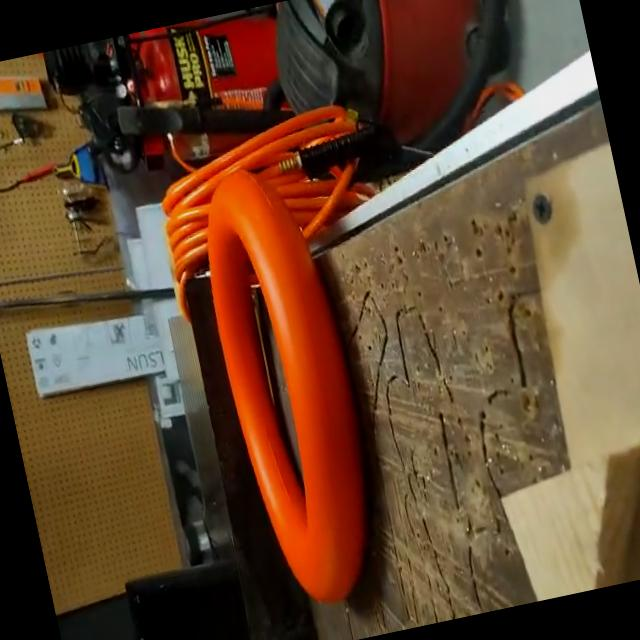note: (190, 170, 396, 614)
